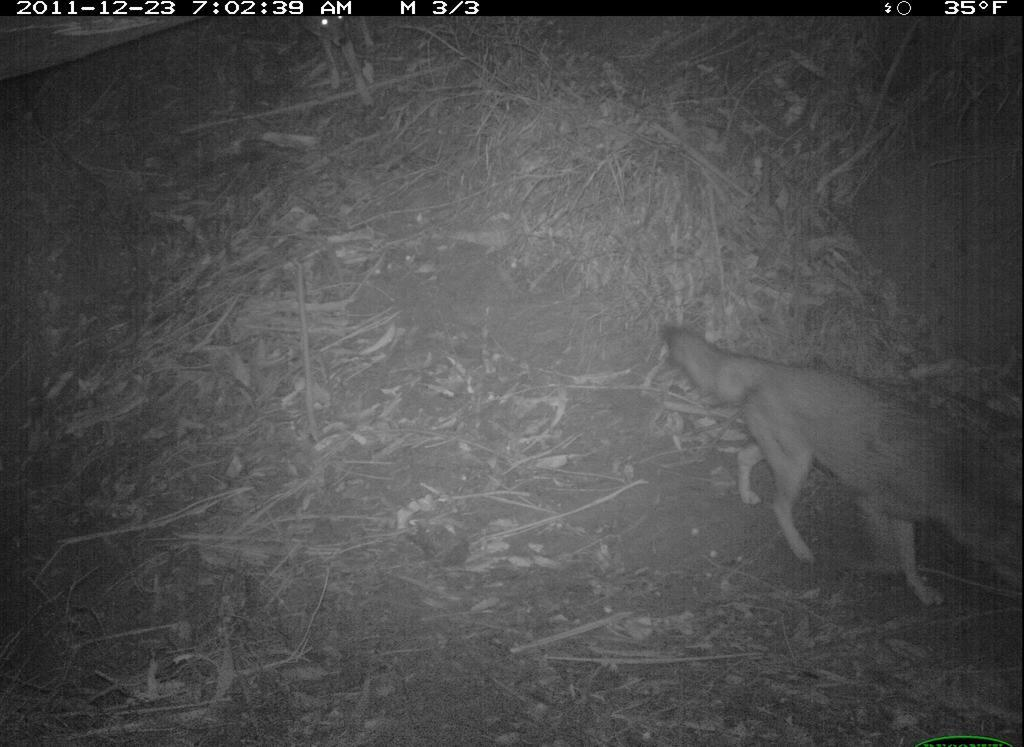coyote: (646, 309, 1023, 642)
